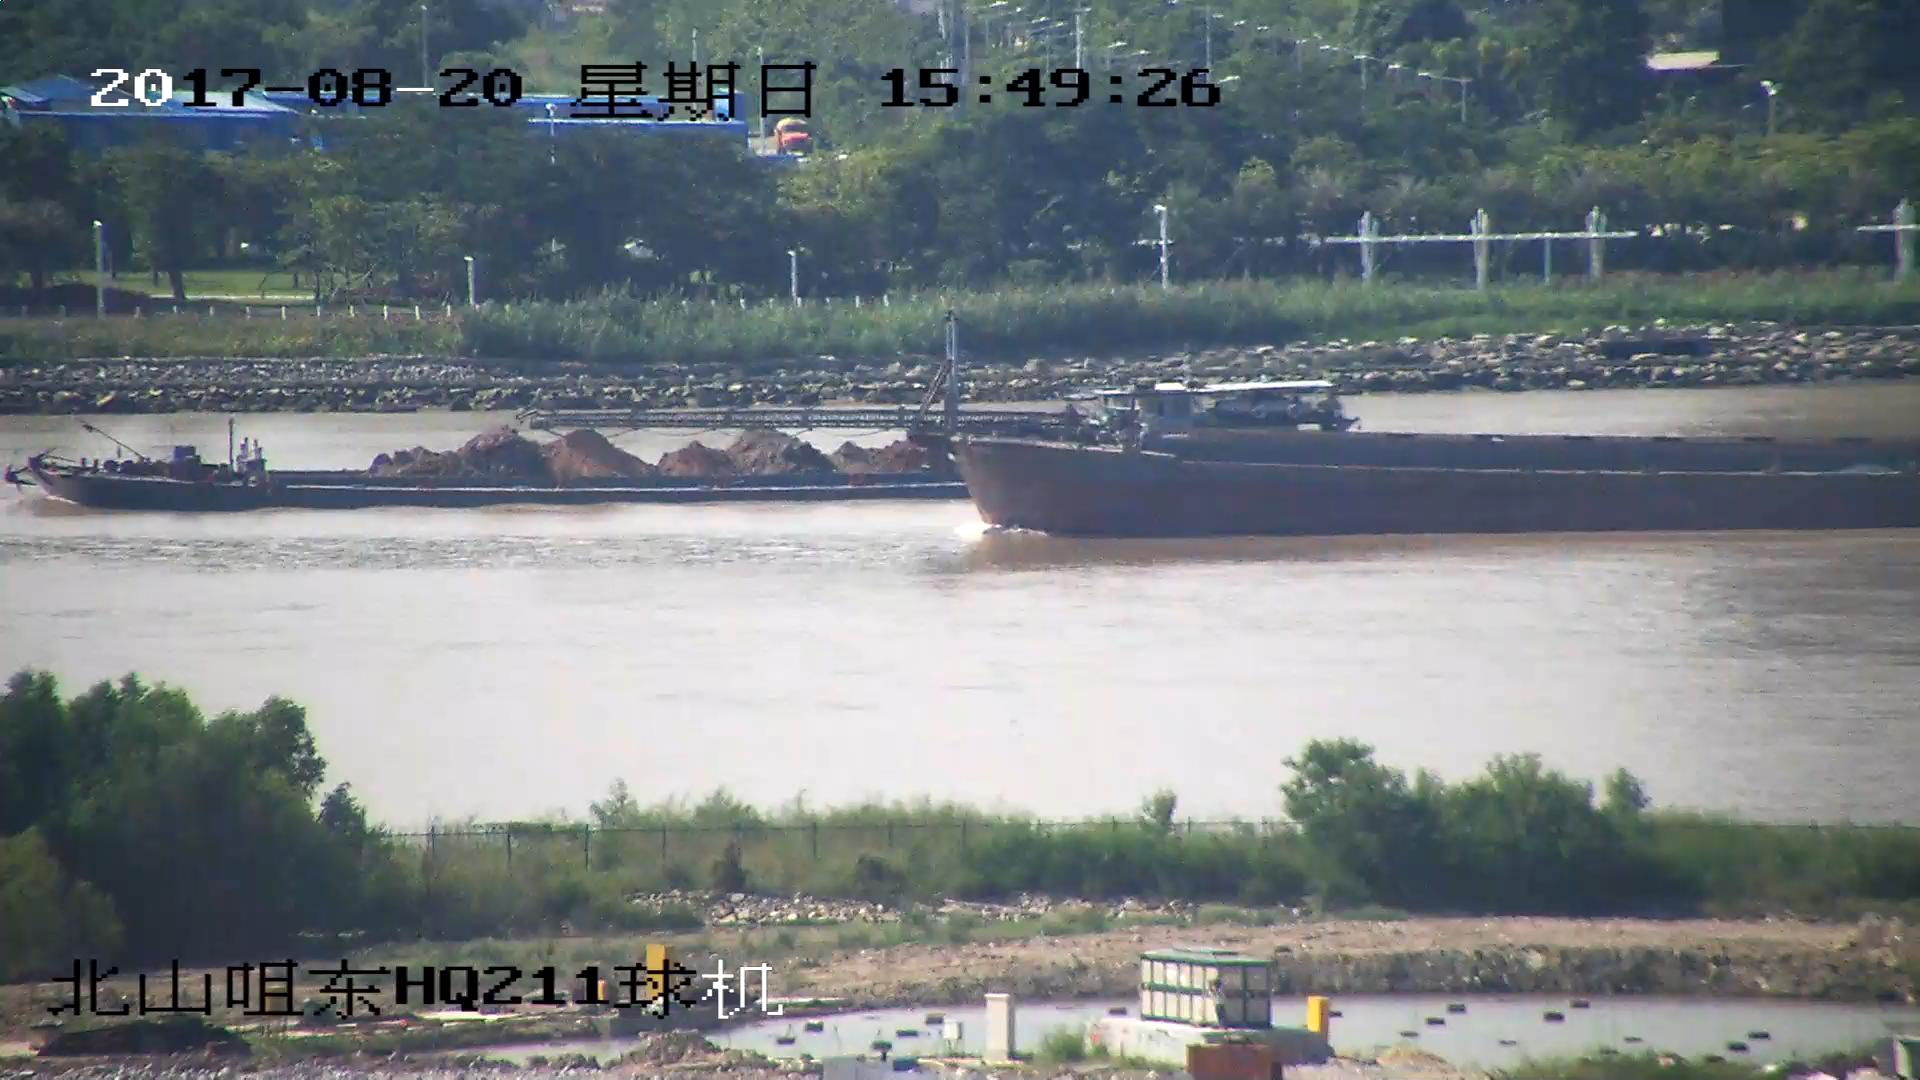bulk cargo carrier: (550, 331, 1920, 537)
ore carrier: (1, 361, 1348, 511)
